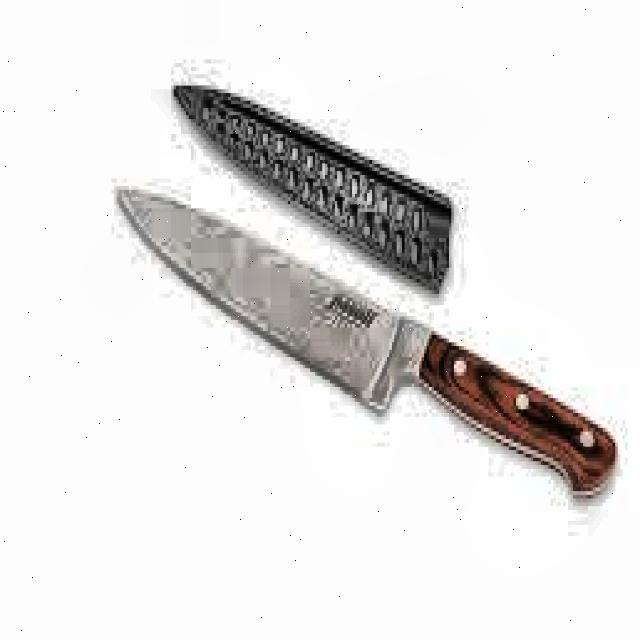knife: (117, 188, 618, 505)
